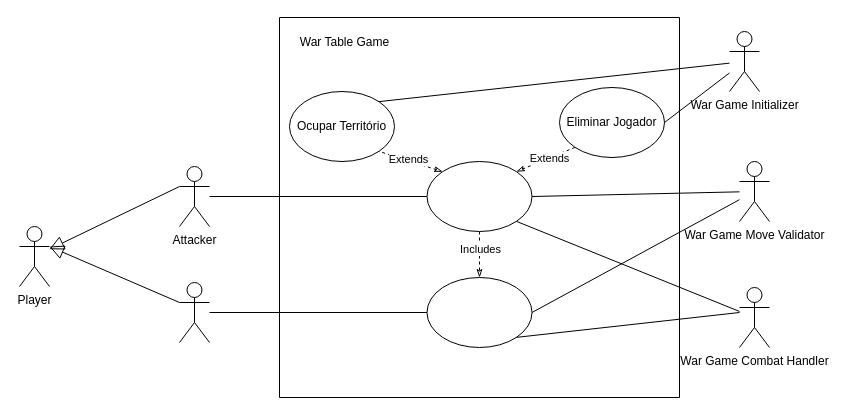
The diagram is 845 pixels wide and 415 high, and some of its shapes have lost their labels. The shapes that lost their labels are listed below. From the top down, each one's box as (x1, y1, x2, y2) in pixels, then its label:
(426, 160, 532, 232): Atacar Território
(178, 282, 210, 342): Defender
(426, 276, 532, 348): Defender Território
